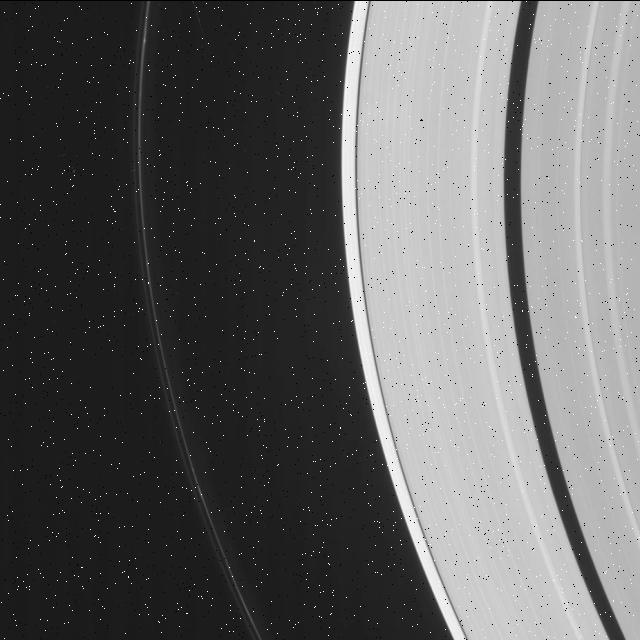Saturn: (127, 0, 640, 640)
